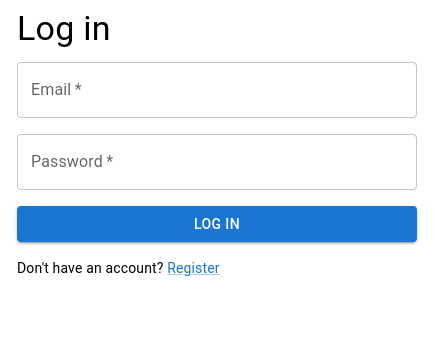
LoginPage › shows an error message for invalid credentials
Expected: the button "Log in" is shown, [17, 206, 417, 242]
Type "user@example.com" into the field labelled "Email *". click: (217, 90)
box: [17, 62, 417, 118]
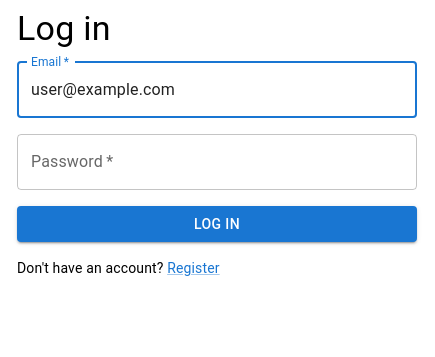
Type "WrongPassword1!" into the password field labelled "Password *". click: (217, 162)
box: [17, 134, 417, 190]
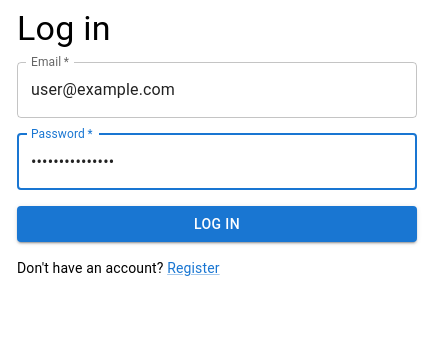
Click the button "Log in". click: (217, 224)
box: [17, 206, 417, 242]
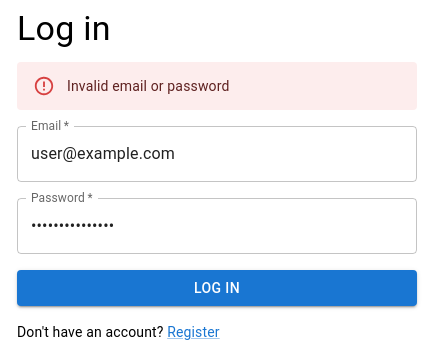
Expected: the text "Invalid email or password" is shown, [67, 78, 230, 94]
